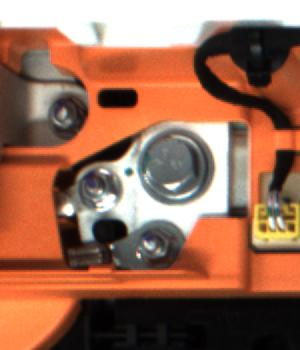nut_b: (136, 129, 225, 205)
screw_s: (131, 227, 180, 270), (78, 170, 124, 215), (44, 92, 86, 134)
